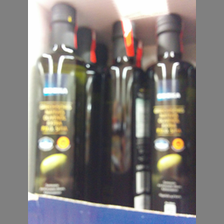oil: (96, 18, 150, 211), (144, 12, 194, 216), (37, 4, 87, 199)
